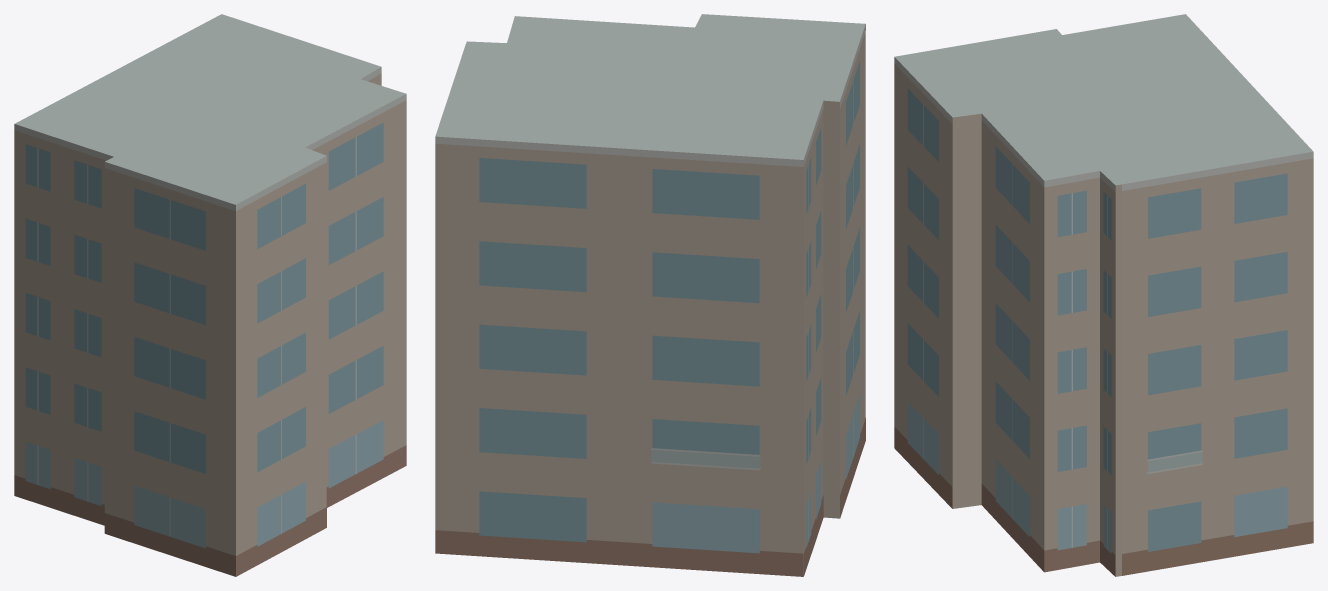
File: survey-upis-32722623.glb
The picture shows the model from 3 angles, left to right: view 1: azimuth 30°, elevation 25°; view 2: azimuth 150°, elevation 25°; view 3: azimuth 270°, elevation 25°; orthographic projection. The views are drawn at different scales.
Parts seen in each view (by area): view 1: survey-upis-32722623.tmp; view 2: survey-upis-32722623.tmp; view 3: survey-upis-32722623.tmp.
Part boxes in pixels (x1,y1,x2,y2): survey-upis-32722623.tmp: (14,14,406,576); survey-upis-32722623.tmp: (435,14,865,576); survey-upis-32722623.tmp: (894,14,1313,576).
Size of the model in its own units: 13.54 by 14.4 by 13.99.
